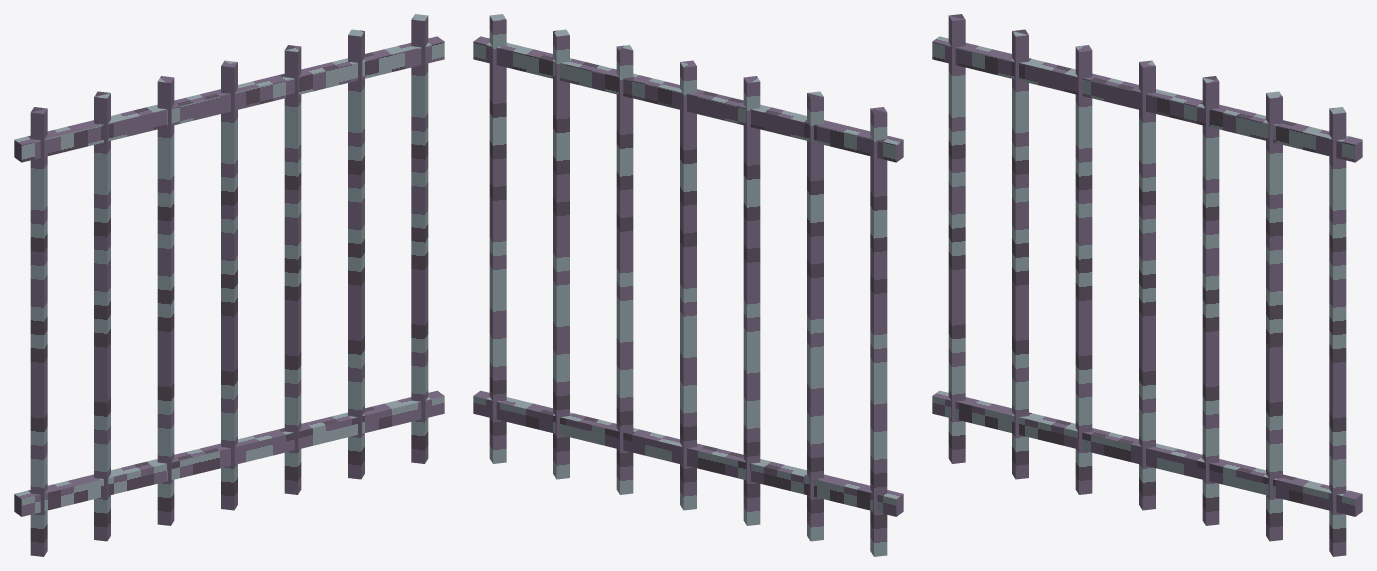
The model's file is a82_corrente_grossa.glb.
The picture shows the model from 3 angles, left to right: view 1: azimuth 30°, elevation 25°; view 2: azimuth 150°, elevation 25°; view 3: azimuth 330°, elevation 25°; orthographic projection.
Parts seen in each view (by area): view 1: a82_corrente_grossa; view 2: a82_corrente_grossa; view 3: a82_corrente_grossa.
Boxes of the visible parts, left/top/right/bottom form: a82_corrente_grossa: left=14, top=14, right=444, bottom=556; a82_corrente_grossa: left=473, top=14, right=903, bottom=556; a82_corrente_grossa: left=932, top=14, right=1362, bottom=556.
Bounding box in the file's own units: 2 × 2 × 0.08.
Materials: 1 (1 with a texture image).
